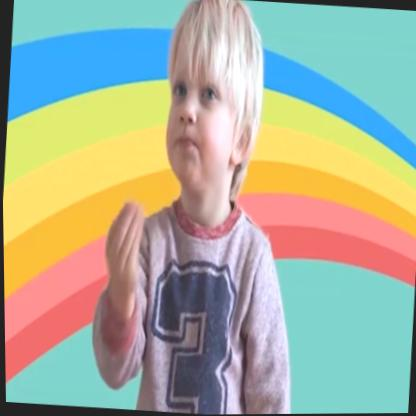Food: (87, 0, 276, 301)
